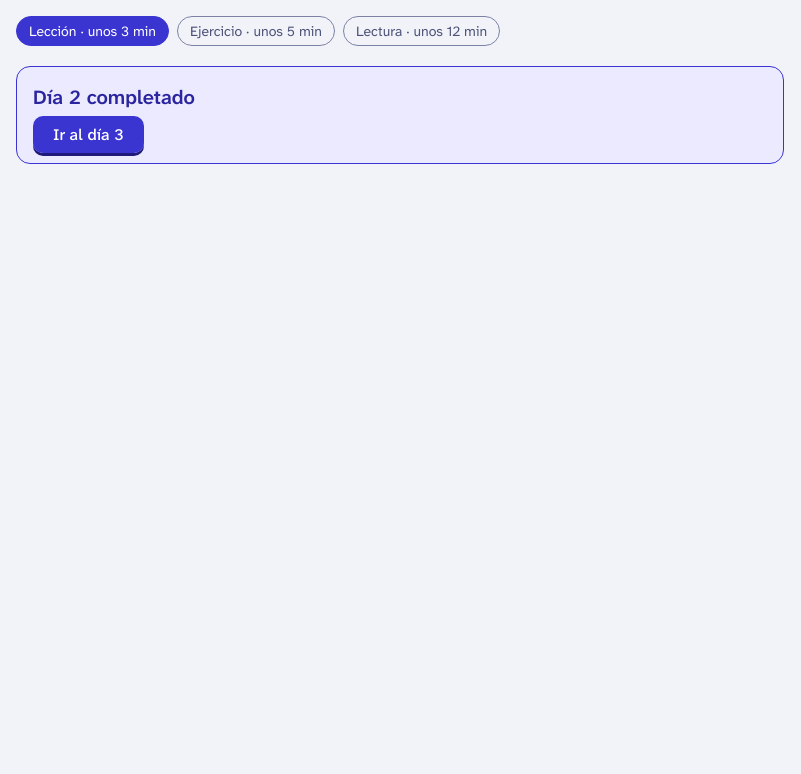
DayView › al pasar al día siguiente no muestra el estado del día anterior
The image size is (801, 774).
What coordinates should you click on to do the following:
click the link "Ir al día 3"
I would click on:
 (88, 134)
Its box is [33, 116, 144, 153].
(page scrolled)
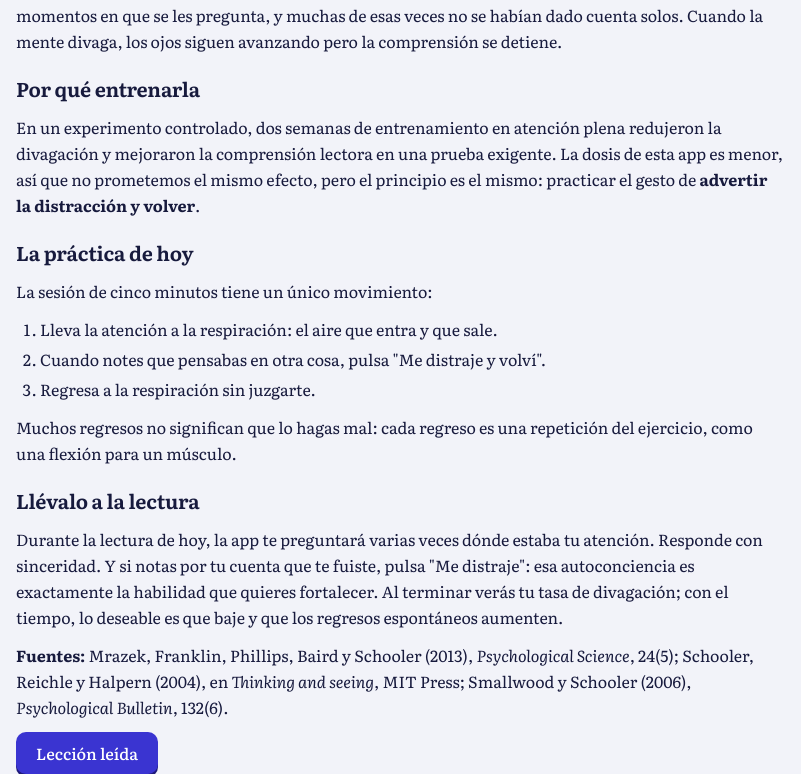
Check: the button "Lección leída" is shown, box [16, 732, 158, 773]
